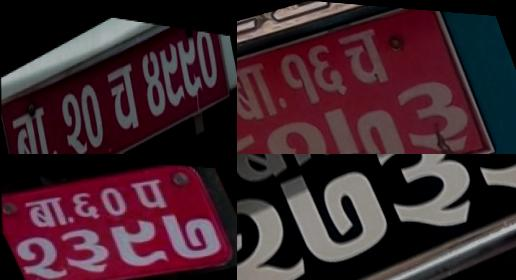0: (237, 56, 282, 126), (76, 68, 108, 153), (192, 23, 222, 88), (95, 182, 126, 215)
1: (258, 106, 346, 154)
2: (237, 170, 314, 280), (7, 230, 68, 280), (55, 79, 90, 154)
3: (367, 154, 491, 246), (53, 222, 112, 278), (275, 44, 322, 108)
4: (136, 36, 170, 120), (304, 36, 348, 98)
6: (65, 186, 101, 222)
7: (273, 154, 403, 280), (320, 84, 413, 154), (157, 199, 226, 261)
9: (103, 210, 172, 268), (336, 20, 393, 90), (156, 28, 189, 112), (174, 22, 204, 96)
ba: (390, 63, 477, 154), (237, 154, 320, 194), (8, 91, 56, 154), (20, 190, 76, 234)
cha: (104, 47, 144, 140)
pa: (128, 171, 172, 214)
